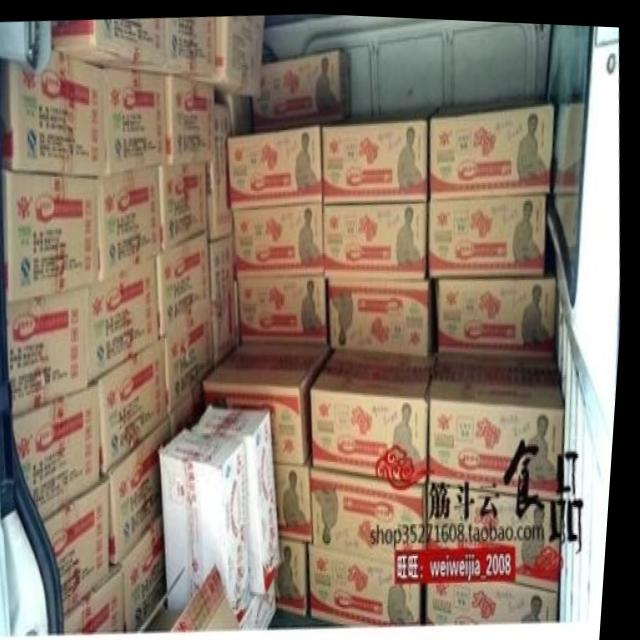box: (193, 403, 289, 595), (434, 354, 568, 491), (165, 427, 256, 621), (315, 343, 440, 483), (205, 338, 339, 462), (435, 478, 566, 587), (2, 167, 101, 301), (0, 48, 102, 176), (428, 98, 556, 197), (18, 379, 105, 519), (319, 463, 433, 563), (10, 287, 92, 414), (109, 415, 177, 564), (429, 188, 548, 273), (102, 334, 173, 475), (92, 251, 164, 388), (438, 273, 559, 354), (50, 472, 117, 612), (318, 540, 429, 621), (323, 118, 430, 200), (228, 119, 325, 208), (251, 44, 353, 128), (331, 273, 437, 352), (327, 199, 430, 277), (100, 161, 165, 283), (101, 66, 171, 176), (234, 200, 327, 278), (122, 502, 175, 630), (183, 12, 265, 94), (243, 268, 332, 341), (51, 16, 165, 69), (159, 228, 213, 336), (434, 575, 566, 619), (168, 304, 218, 415), (128, 14, 217, 74), (178, 560, 249, 628), (166, 71, 218, 161), (161, 155, 210, 249), (71, 560, 133, 634), (211, 227, 242, 366), (207, 102, 236, 236), (280, 448, 320, 540), (282, 532, 318, 612), (175, 379, 210, 440), (248, 582, 284, 629)
